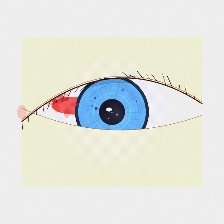hemorrhage_spot: (43, 79, 108, 132)
